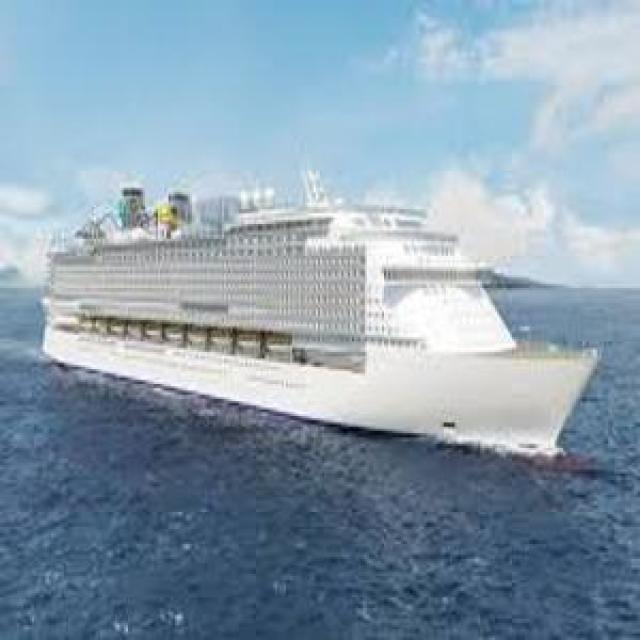passenger ship: (38, 174, 600, 460)
